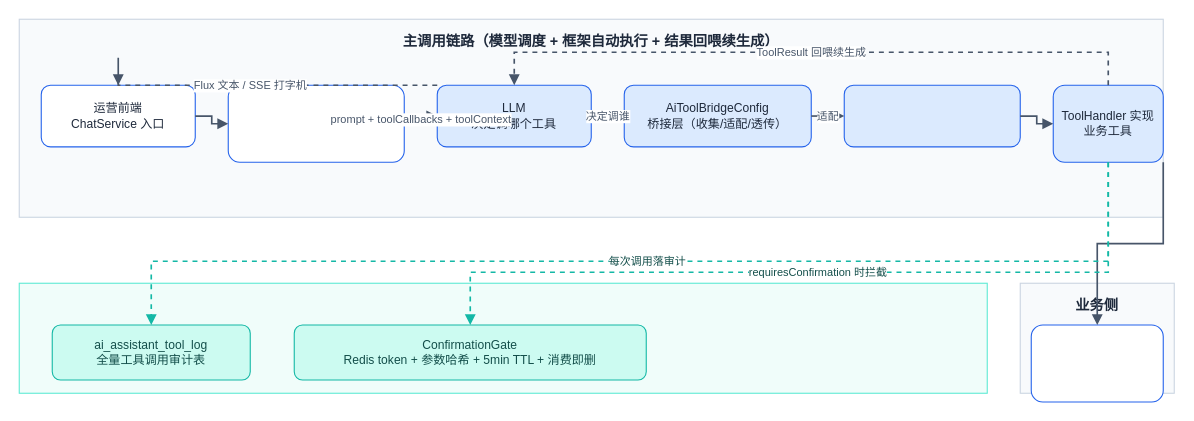
Image size: 1194x421. Some labels were removed from this diagram. The shapes that lost their labels are listed below. From the top down, each one's box as (x1, y1, x2, y2) in pixels, then its label:
(227, 84, 404, 162): ChatService 组装 toolCallbacks + toolContext
(843, 84, 1020, 147): FunctionToolCallback Spring AI
(18, 282, 987, 393): 旁路支撑（审计 + 写操作门禁）
(1030, 324, 1163, 402): 业务 Service 订单 / 商品 / 店铺
